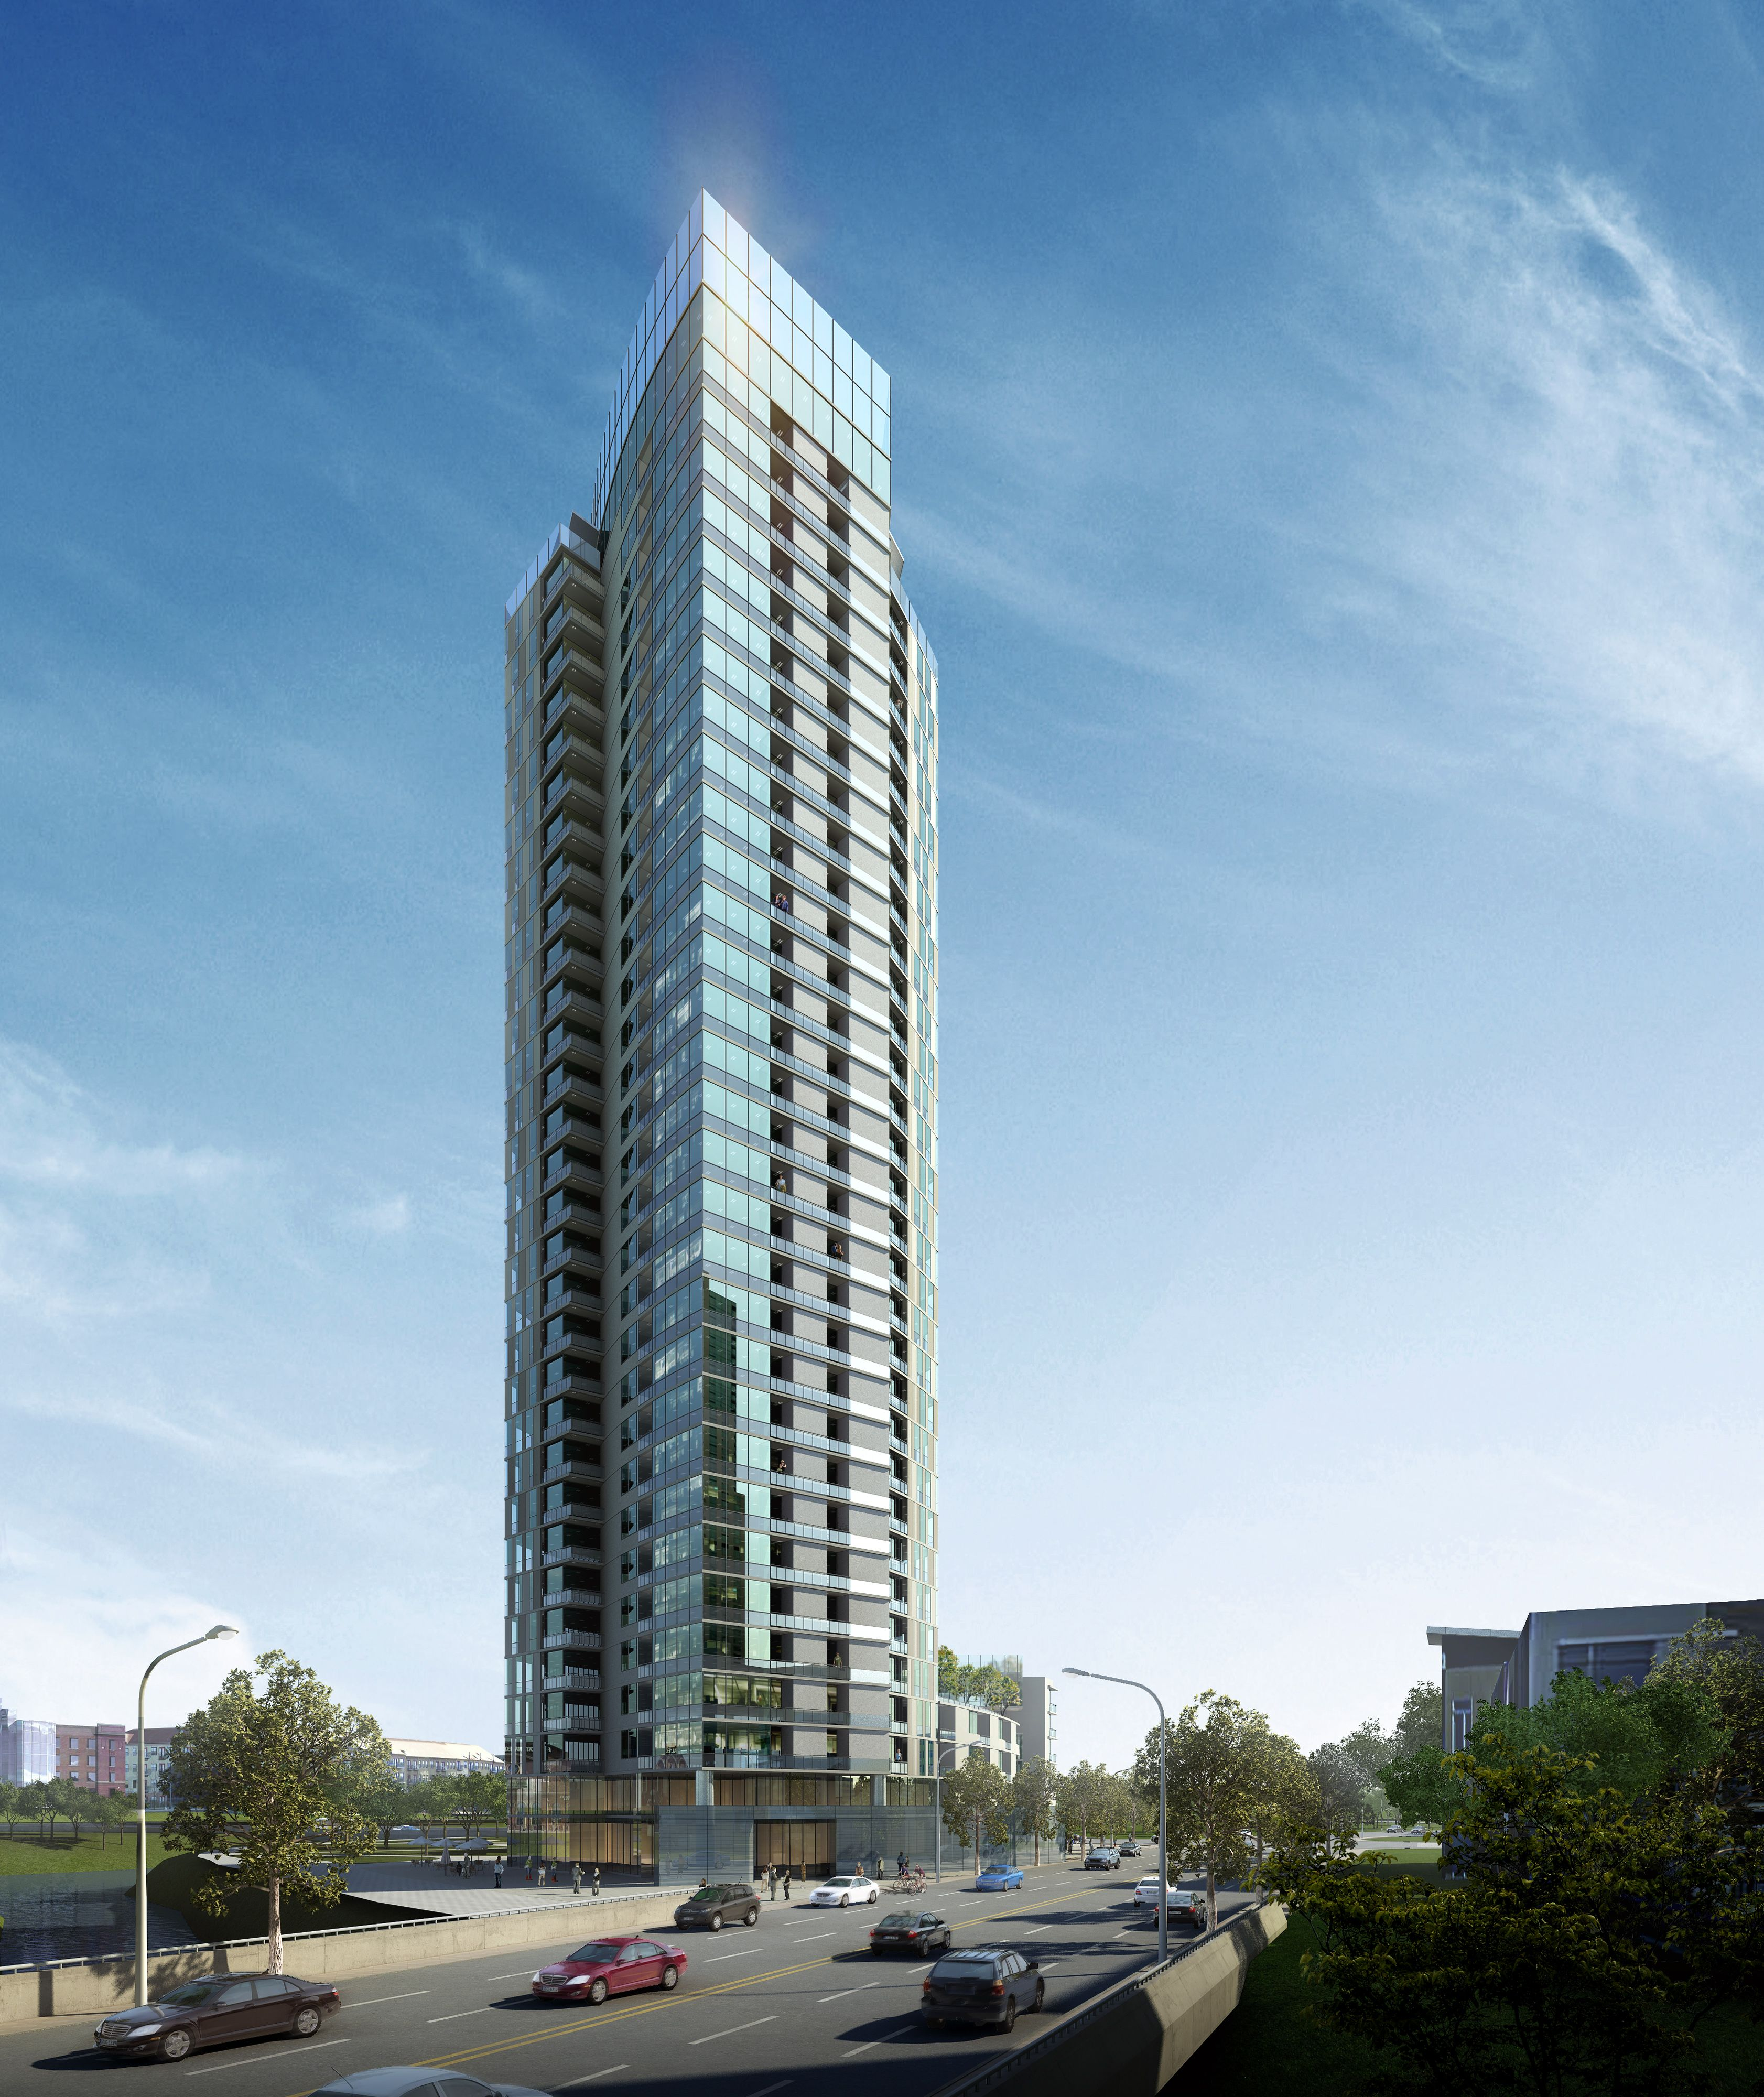Sky Building: (452, 189, 1032, 1852)
